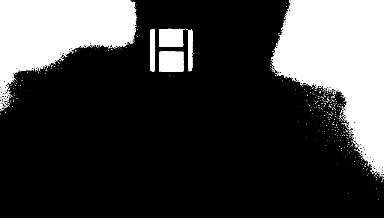H: (150, 28, 191, 72)
